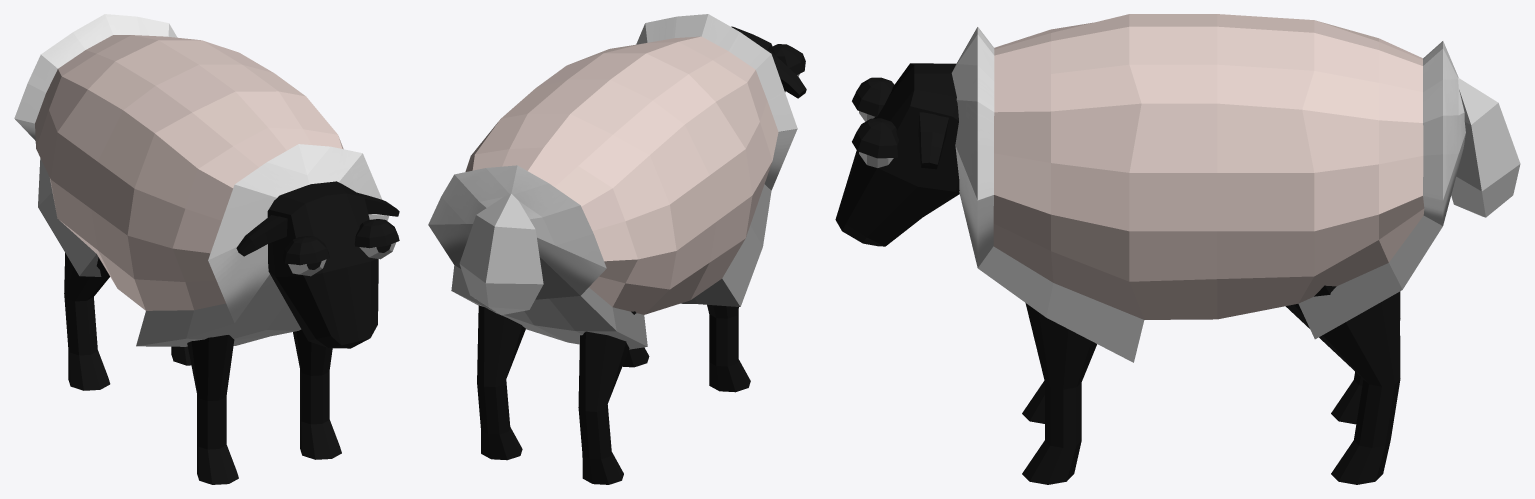
Rendered from low-sheep-cutted-v1.2.fbx.
The picture shows the model from 3 angles, left to right: view 1: azimuth 30°, elevation 25°; view 2: azimuth 150°, elevation 25°; view 3: azimuth 270°, elevation 25°; orthographic projection. The views are drawn at different scales.
Parts seen in each view (by area): view 1: Body 2, Head, Leg-Front-Right, Leg-Back-Right, Leg-Front-Left, Ear.Right, Eye.Right|Eye.Lid|Dupli|1, Eye.Left|Eye.Lid|Dupli|1, Ear.Left; view 2: Body 2, Tail, Leg-Back-Right, Leg-Back-Left, Leg-Front-Right, Ear.Right, Eye.Right|Eye.Lid|Dupli|1; view 3: Body 2, Head, Leg-Back-Left, Leg-Front-Left, Tail, Eye.Left|Eye.Lid|Dupli|1, Ear.Left, Eye.Right|Eye.Lid|Dupli|1, Leg-Back-Right.
Boxes of the visible parts, x1,y1,x2,y2 form: Body 2: (14, 14, 389, 346); Head: (267, 181, 378, 348); Leg-Front-Right: (187, 335, 238, 484); Leg-Back-Right: (64, 253, 110, 390); Leg-Front-Left: (293, 329, 341, 459); Ear.Right: (236, 215, 287, 256); Eye.Right|Eye.Lid|Dupli|1: (282, 236, 329, 265); Eye.Left|Eye.Lid|Dupli|1: (354, 219, 399, 248); Ear.Left: (357, 192, 399, 216); Body 2: (428, 14, 797, 349); Tail: (459, 193, 543, 315); Leg-Back-Right: (578, 311, 636, 484); Leg-Back-Left: (477, 305, 525, 460); Leg-Front-Right: (707, 304, 750, 392); Ear.Right: (769, 51, 806, 98); Eye.Right|Eye.Lid|Dupli|1: (772, 44, 805, 74); Body 2: (951, 14, 1465, 362); Head: (835, 63, 959, 246); Leg-Back-Left: (1285, 285, 1400, 484); Leg-Front-Left: (1022, 303, 1096, 484); Tail: (1451, 77, 1520, 217); Eye.Left|Eye.Lid|Dupli|1: (852, 118, 900, 158); Ear.Left: (918, 112, 948, 169); Eye.Right|Eye.Lid|Dupli|1: (852, 77, 894, 117); Leg-Back-Right: (1331, 291, 1400, 424).
Bounding box in the file's own units: 140 × 215 × 320.
4 materials, 1 textured.
